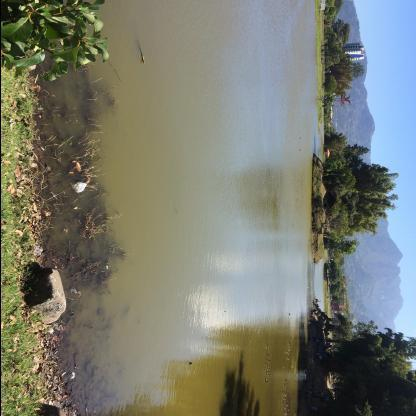plastik: (75, 183, 87, 194)
